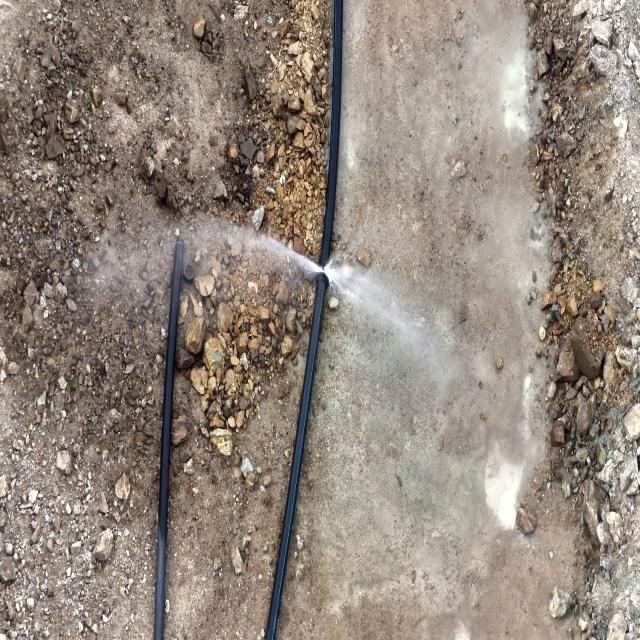leak: (186, 214, 400, 325)
